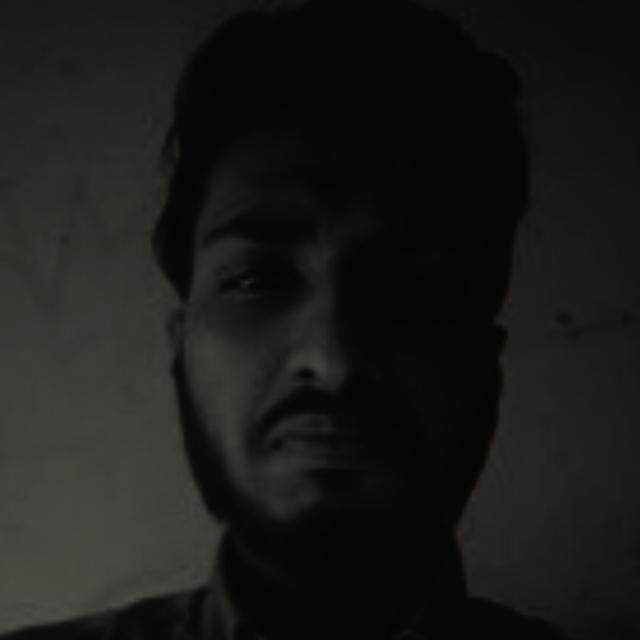Sad: (77, 130, 571, 590)
